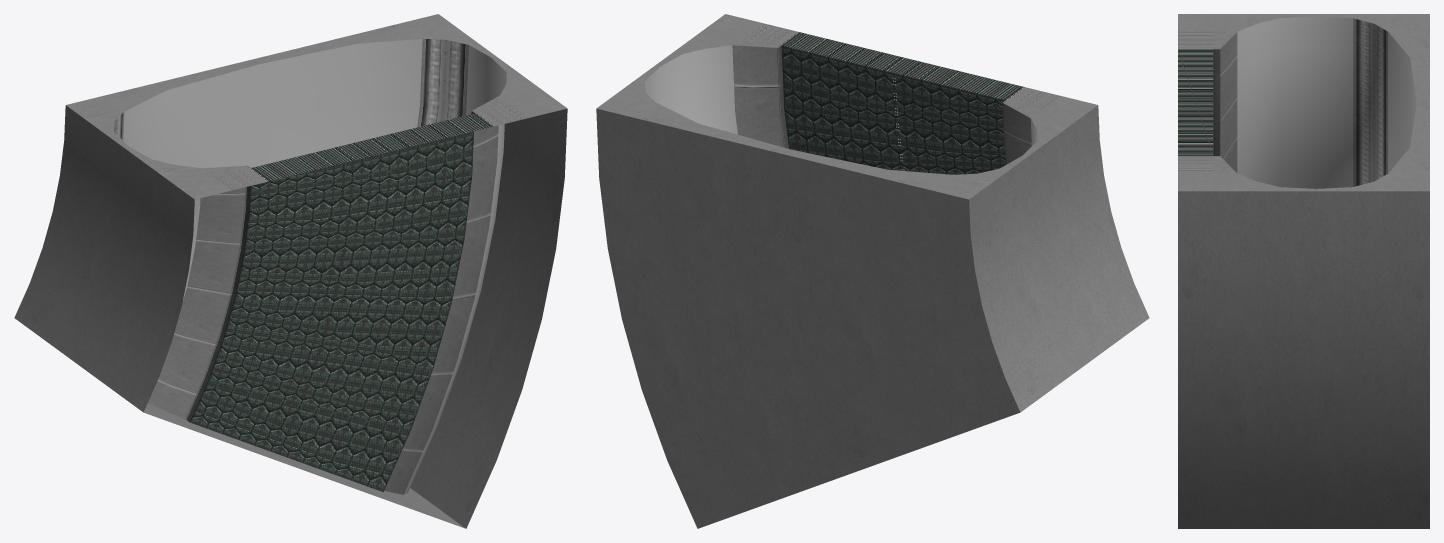
File: TC_city_tunnel_30degree_turn.fbx
3 renders of one model, left to right at view 1: azimuth 30°, elevation 25°; view 2: azimuth 150°, elevation 25°; view 3: azimuth 270°, elevation 25°, orthographic. The views are drawn at different scales.
Parts seen in each view (by area): view 1: TC_city_tunnel_30degree_turn; view 2: TC_city_tunnel_30degree_turn; view 3: TC_city_tunnel_30degree_turn.
Boxes of the visible parts, x1,y1,x2,y2 form: TC_city_tunnel_30degree_turn: [14, 14, 567, 528]; TC_city_tunnel_30degree_turn: [596, 14, 1149, 528]; TC_city_tunnel_30degree_turn: [1178, 14, 1429, 528].
Bounding box in the file's own units: 11.38 × 10.14 × 6.
